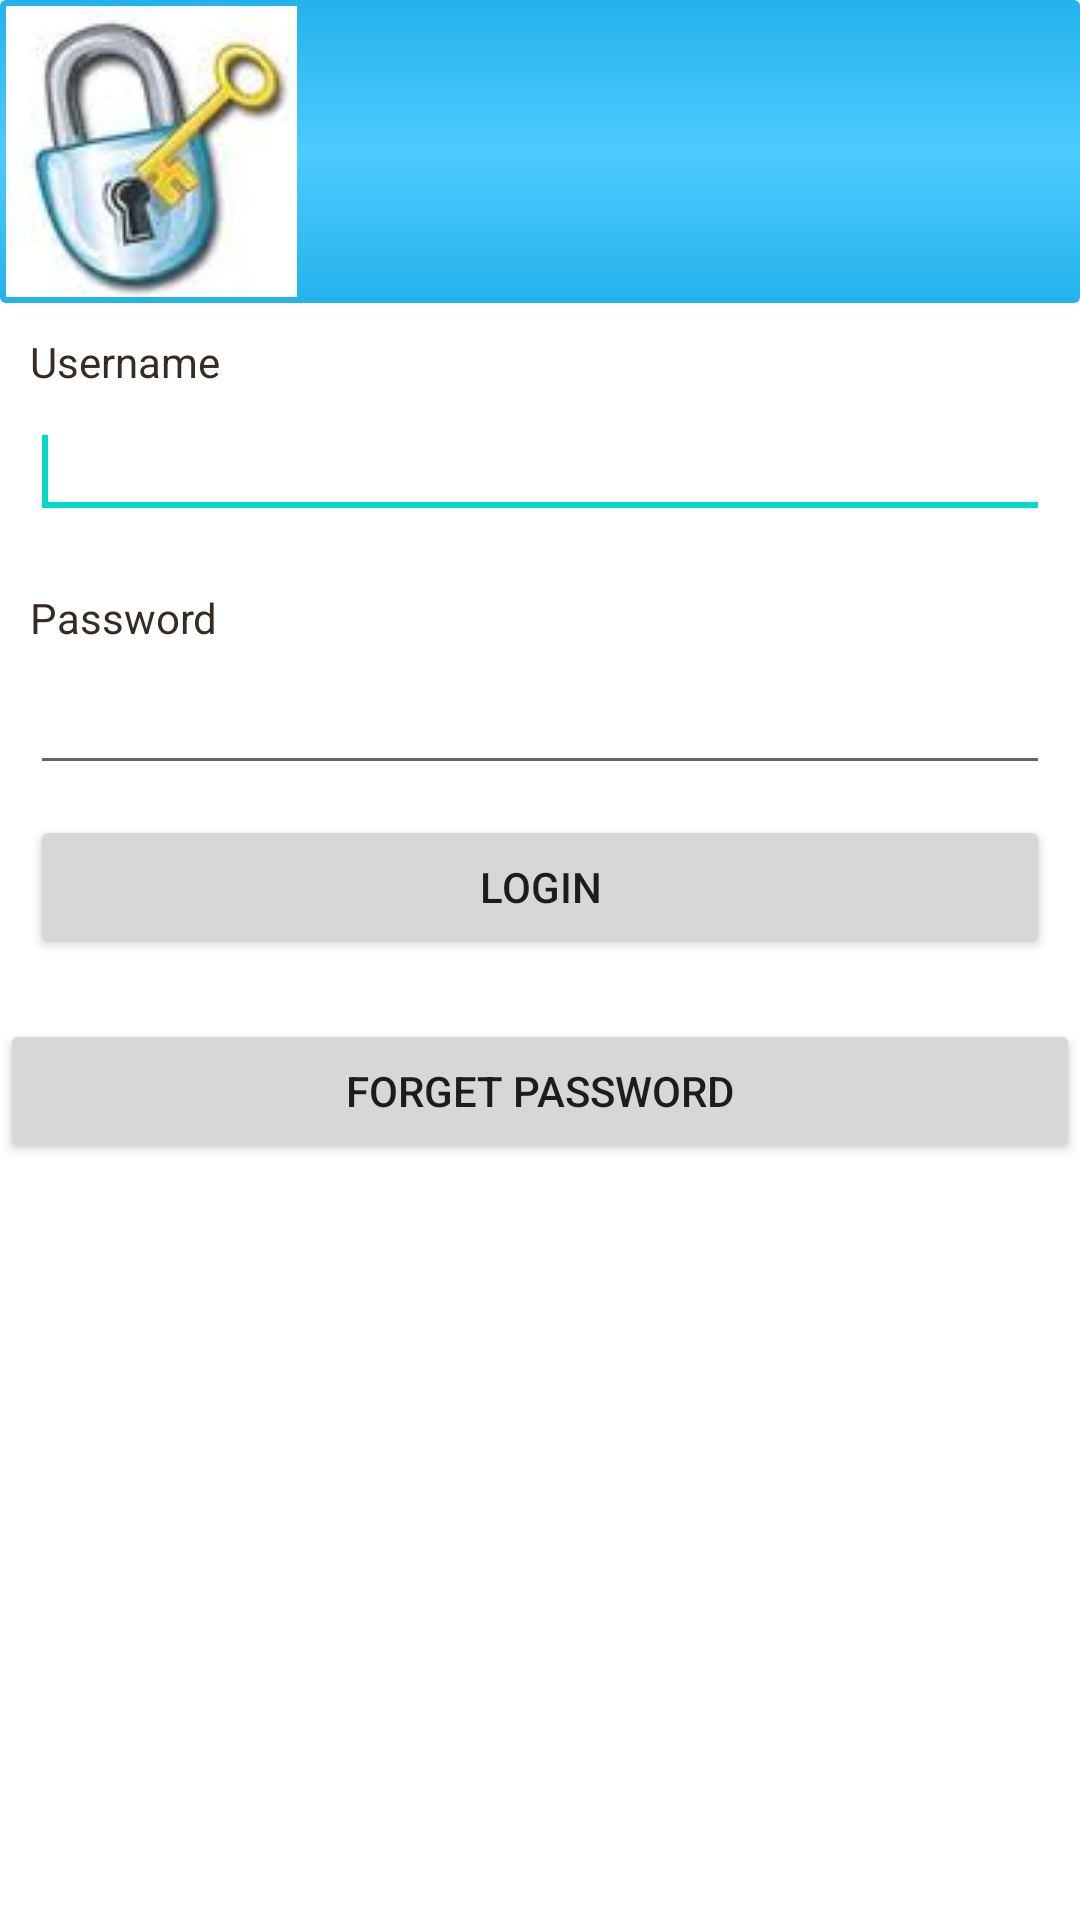

Named icons in this screenshot (1080w x 1920h) and their centers, point (x, y):
lock: point (151, 151)
